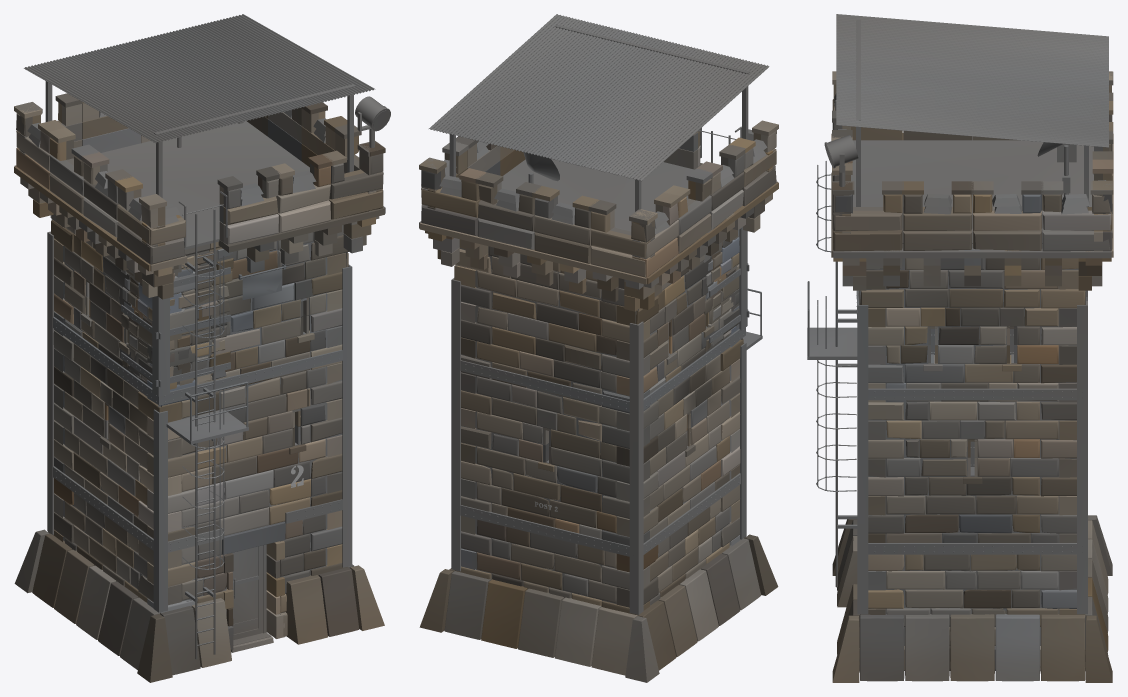
Rendered from Watchtower2_LOD0.glb.
3 renders of one model, left to right at view 1: azimuth 30°, elevation 25°; view 2: azimuth 150°, elevation 25°; view 3: azimuth 270°, elevation 25°, orthographic. The views are drawn at different scales.
Visible parts, largest first — view 1: Watchtower2_Masonry_LOD0, Watchtower2_Trim_LOD0, Watchtower2_Metal_LOD0, Watchtower2_Roof_LOD0, Watchtower2_Hardware_LOD0, Watchtower2_Canvas_LOD0; view 2: Watchtower2_Masonry_LOD0, Watchtower2_Trim_LOD0, Watchtower2_Roof_LOD0, Watchtower2_Metal_LOD0; view 3: Watchtower2_Masonry_LOD0, Watchtower2_Trim_LOD0, Watchtower2_Metal_LOD0, Watchtower2_Roof_LOD0.
Boxes of the visible parts, <box> form: Watchtower2_Masonry_LOD0: <box>16,102,383,636</box>; Watchtower2_Trim_LOD0: <box>14,93,385,682</box>; Watchtower2_Metal_LOD0: <box>27,81,390,659</box>; Watchtower2_Roof_LOD0: <box>24,14,375,143</box>; Watchtower2_Hardware_LOD0: <box>55,253,339,646</box>; Watchtower2_Canvas_LOD0: <box>242,268,282,299</box>; Watchtower2_Masonry_LOD0: <box>421,129,776,614</box>; Watchtower2_Trim_LOD0: <box>419,120,778,682</box>; Watchtower2_Roof_LOD0: <box>429,14,769,181</box>; Watchtower2_Metal_LOD0: <box>439,25,767,614</box>; Watchtower2_Masonry_LOD0: <box>832,85,1112,671</box>; Watchtower2_Trim_LOD0: <box>831,71,1113,682</box>; Watchtower2_Metal_LOD0: <box>807,20,1105,614</box>; Watchtower2_Roof_LOD0: <box>836,14,1108,147</box>.
Size of the model in its own units: 5.84 by 12.51 by 6.21.
